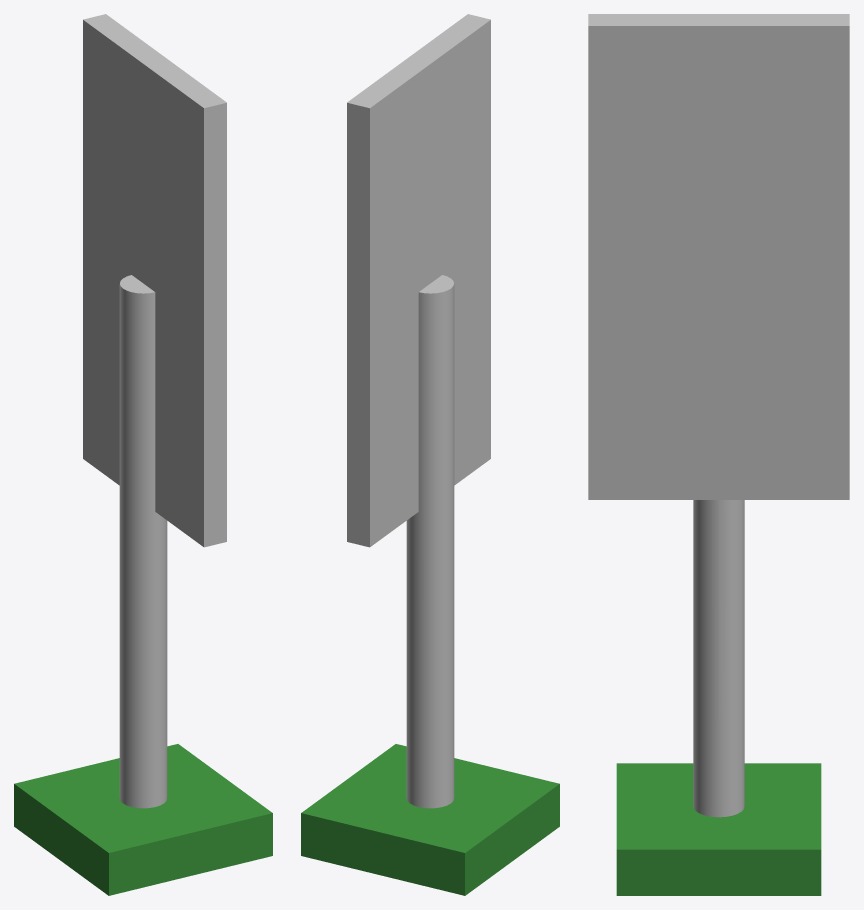
File: sign_no_right_turn.obj
The picture shows the model from 3 angles, left to right: view 1: azimuth 30°, elevation 25°; view 2: azimuth 150°, elevation 25°; view 3: azimuth 270°, elevation 25°; orthographic projection. The views are drawn at different scales.
Visible parts, largest first — view 1: SketchUp.002_ID23, SketchUp_ID2, SketchUp.001_ID10; view 2: SketchUp.002_ID23, SketchUp_ID2, SketchUp.001_ID10; view 3: SketchUp.003_ID31, SketchUp_ID2, SketchUp.001_ID10, SketchUp.002_ID23.
Boxes of the visible parts, box(x1,y1,x2,y2) form: SketchUp.002_ID23: box(83, 14, 226, 547); SketchUp_ID2: box(14, 744, 272, 895); SketchUp.001_ID10: box(119, 275, 167, 808); SketchUp.002_ID23: box(347, 14, 490, 547); SketchUp_ID2: box(301, 744, 559, 895); SketchUp.001_ID10: box(406, 275, 454, 808); SketchUp.003_ID31: box(588, 26, 849, 499); SketchUp_ID2: box(616, 763, 821, 895); SketchUp.001_ID10: box(693, 500, 744, 817); SketchUp.002_ID23: box(588, 14, 849, 25).
Size of the model in its own units: 0.0508 by 0.2301 by 0.065.
